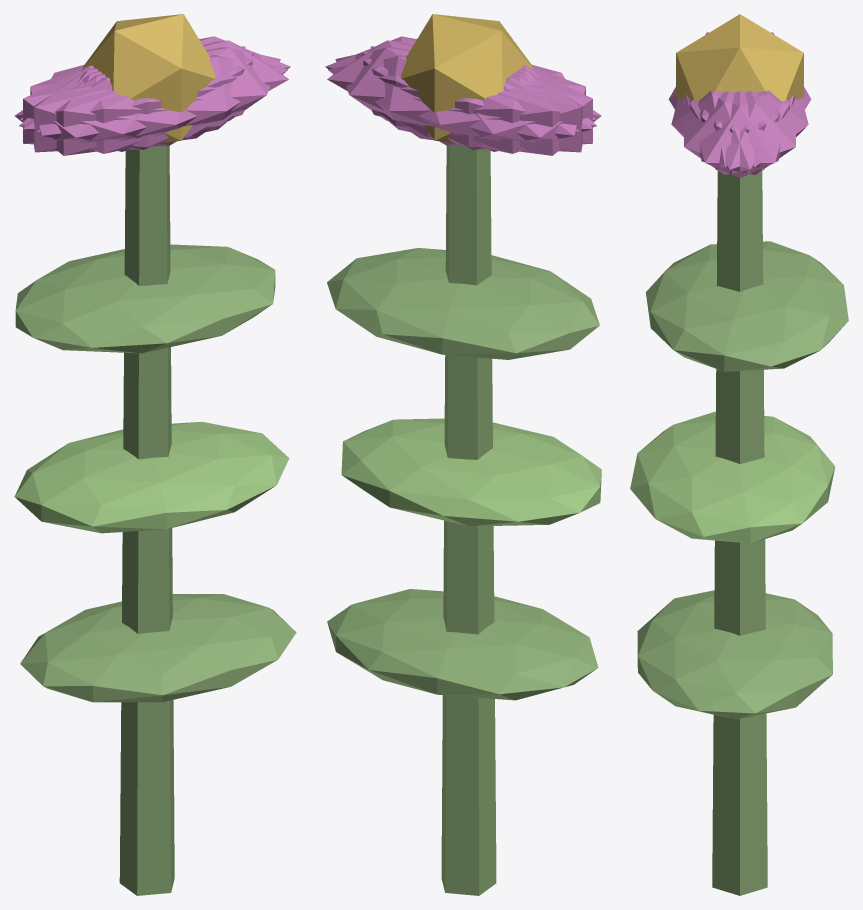
Rendered from sterculia-stipulata.glb.
3 renders of one model, left to right at view 1: azimuth 30°, elevation 25°; view 2: azimuth 150°, elevation 25°; view 3: azimuth 270°, elevation 25°, orthographic.
Parts seen in each view (by area): view 1: stem, leaf1, leaf0, leaf2, center, petal1, petal6, petal2, petal5, petal7, petal0, petal4 (+2 smaller); view 2: stem, leaf2, leaf1, leaf0, center, petal8, petal3, petal7, petal4, petal2, petal0, petal5 (+2 smaller); view 3: stem, leaf2, leaf1, leaf0, center, petal0, petal5, petal4, petal8, petal1.
Boxes of the visible parts, x1,y1,x2,y2 form: stem: (119,145,174,895); leaf1: (14,421,289,533); leaf0: (20,594,296,702); leaf2: (15,244,275,353); center: (82,14,215,142); petal1: (19,55,288,153); petal6: (14,67,209,155); petal2: (33,46,245,152); petal5: (37,47,280,146); petal7: (23,52,253,149); petal0: (82,40,288,137); petal4: (20,36,290,129); stem: (441,145,496,895); leaf2: (327,248,599,359); leaf1: (341,418,601,526); leaf0: (327,589,598,700); center: (401,14,533,142); petal8: (328,55,596,153); petal3: (406,67,601,155); petal7: (370,46,582,152); petal4: (335,47,578,146); petal2: (362,52,592,149); petal0: (327,40,533,137); petal5: (325,36,595,129); stem: (712,170,767,895); leaf2: (646,241,848,371); leaf1: (630,411,835,543); leaf0: (637,590,832,719); center: (676,14,803,101); petal0: (685,91,794,177); petal5: (683,91,789,174); petal4: (690,91,796,174); petal8: (699,90,808,167); petal1: (671,90,780,167).
Size of the model in its own units: 0.1452 by 0.4509 by 0.1048.
